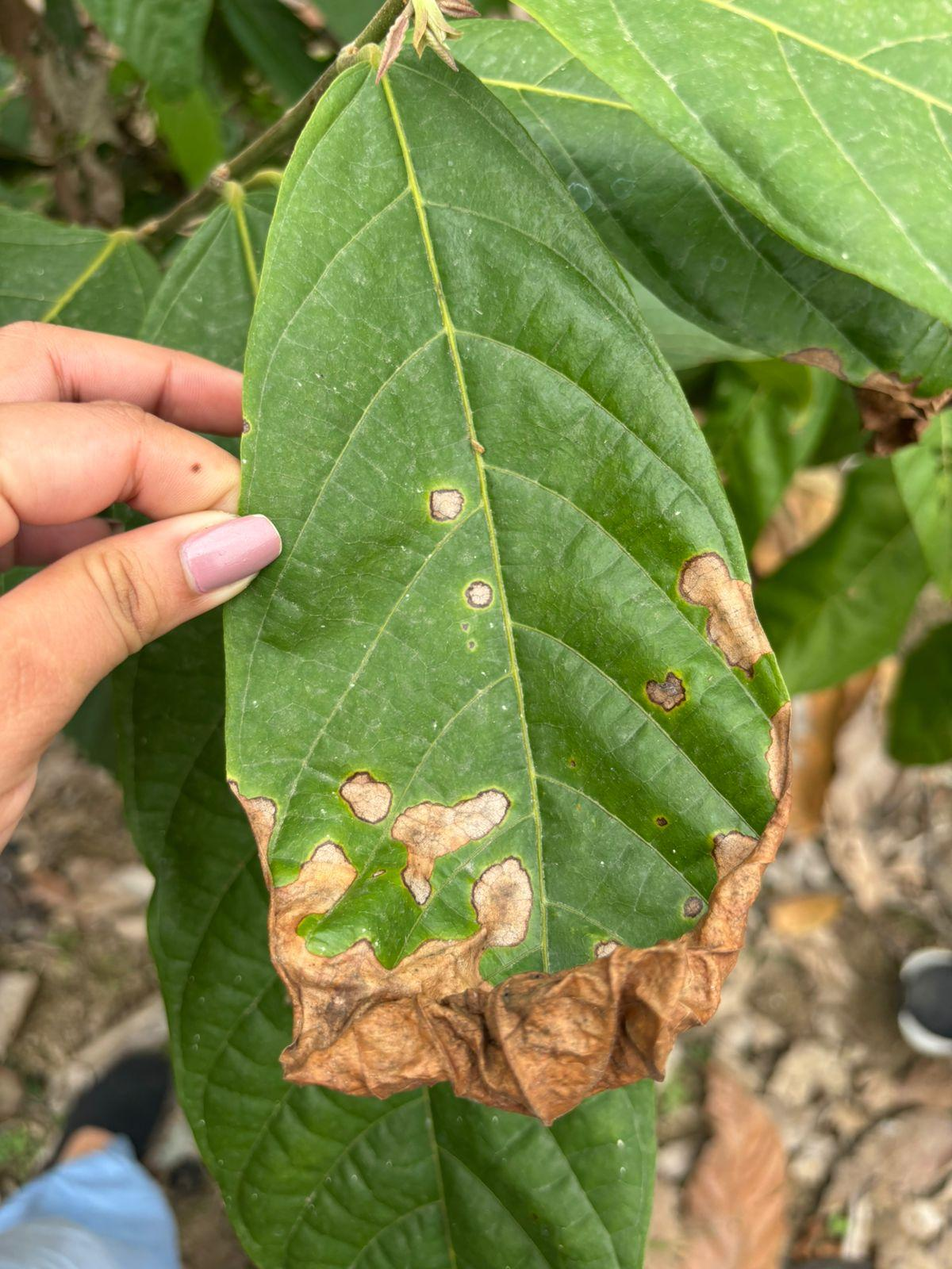Potasio: (225, 53, 785, 1119)
